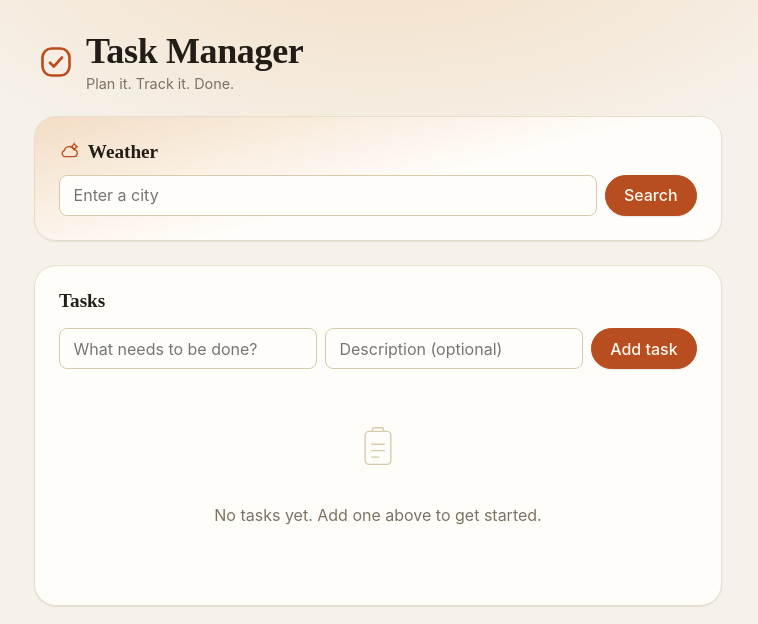
Test case: App › adds a task through the form
The image size is (758, 624).
Expected: the text "No tasks yet. Add one above to get started." is shown, [214,505,542,525]
In the field named "Task title": (188, 349) [59,328,317,369], type "Buy milk"
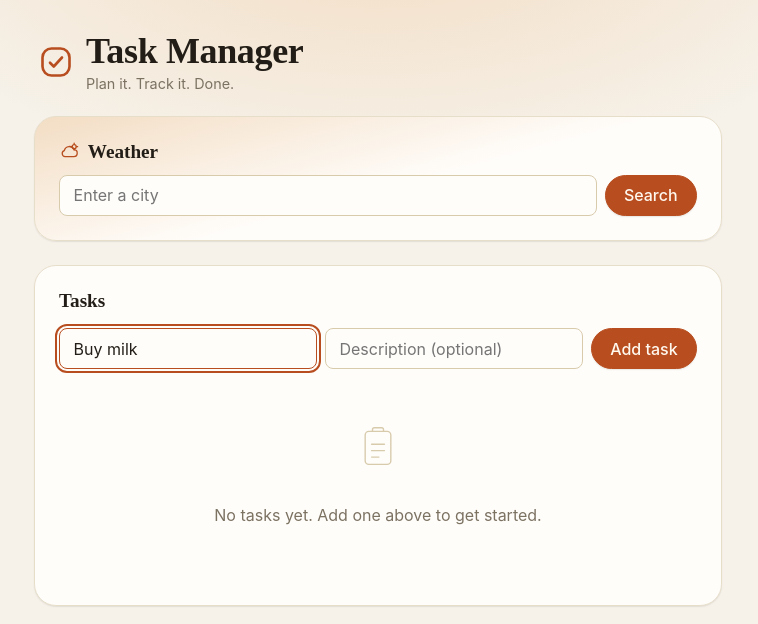
Click the button "Add task": (644, 349) [591,328,697,369]
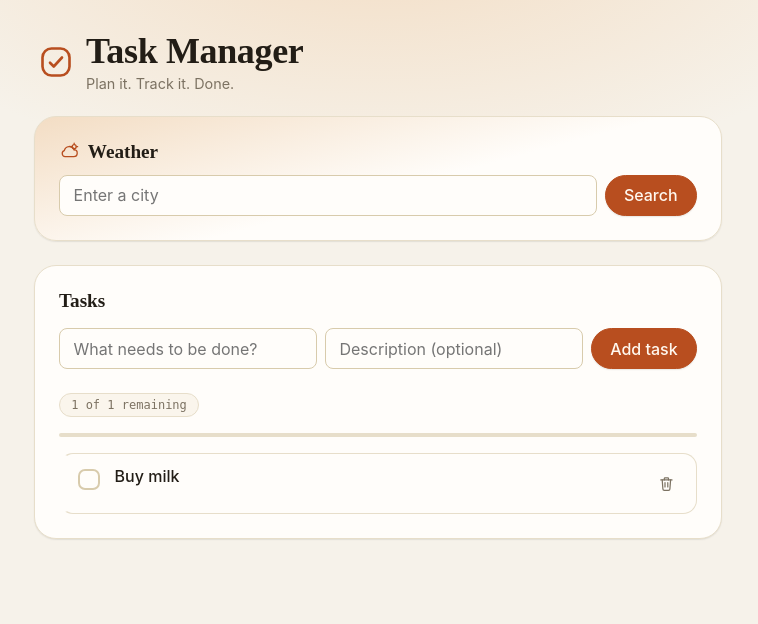
Result: the text "Buy milk" is shown at [115,466,179,486]
Result: the text "1 of 1 remaining" is shown at [59,393,199,417]
